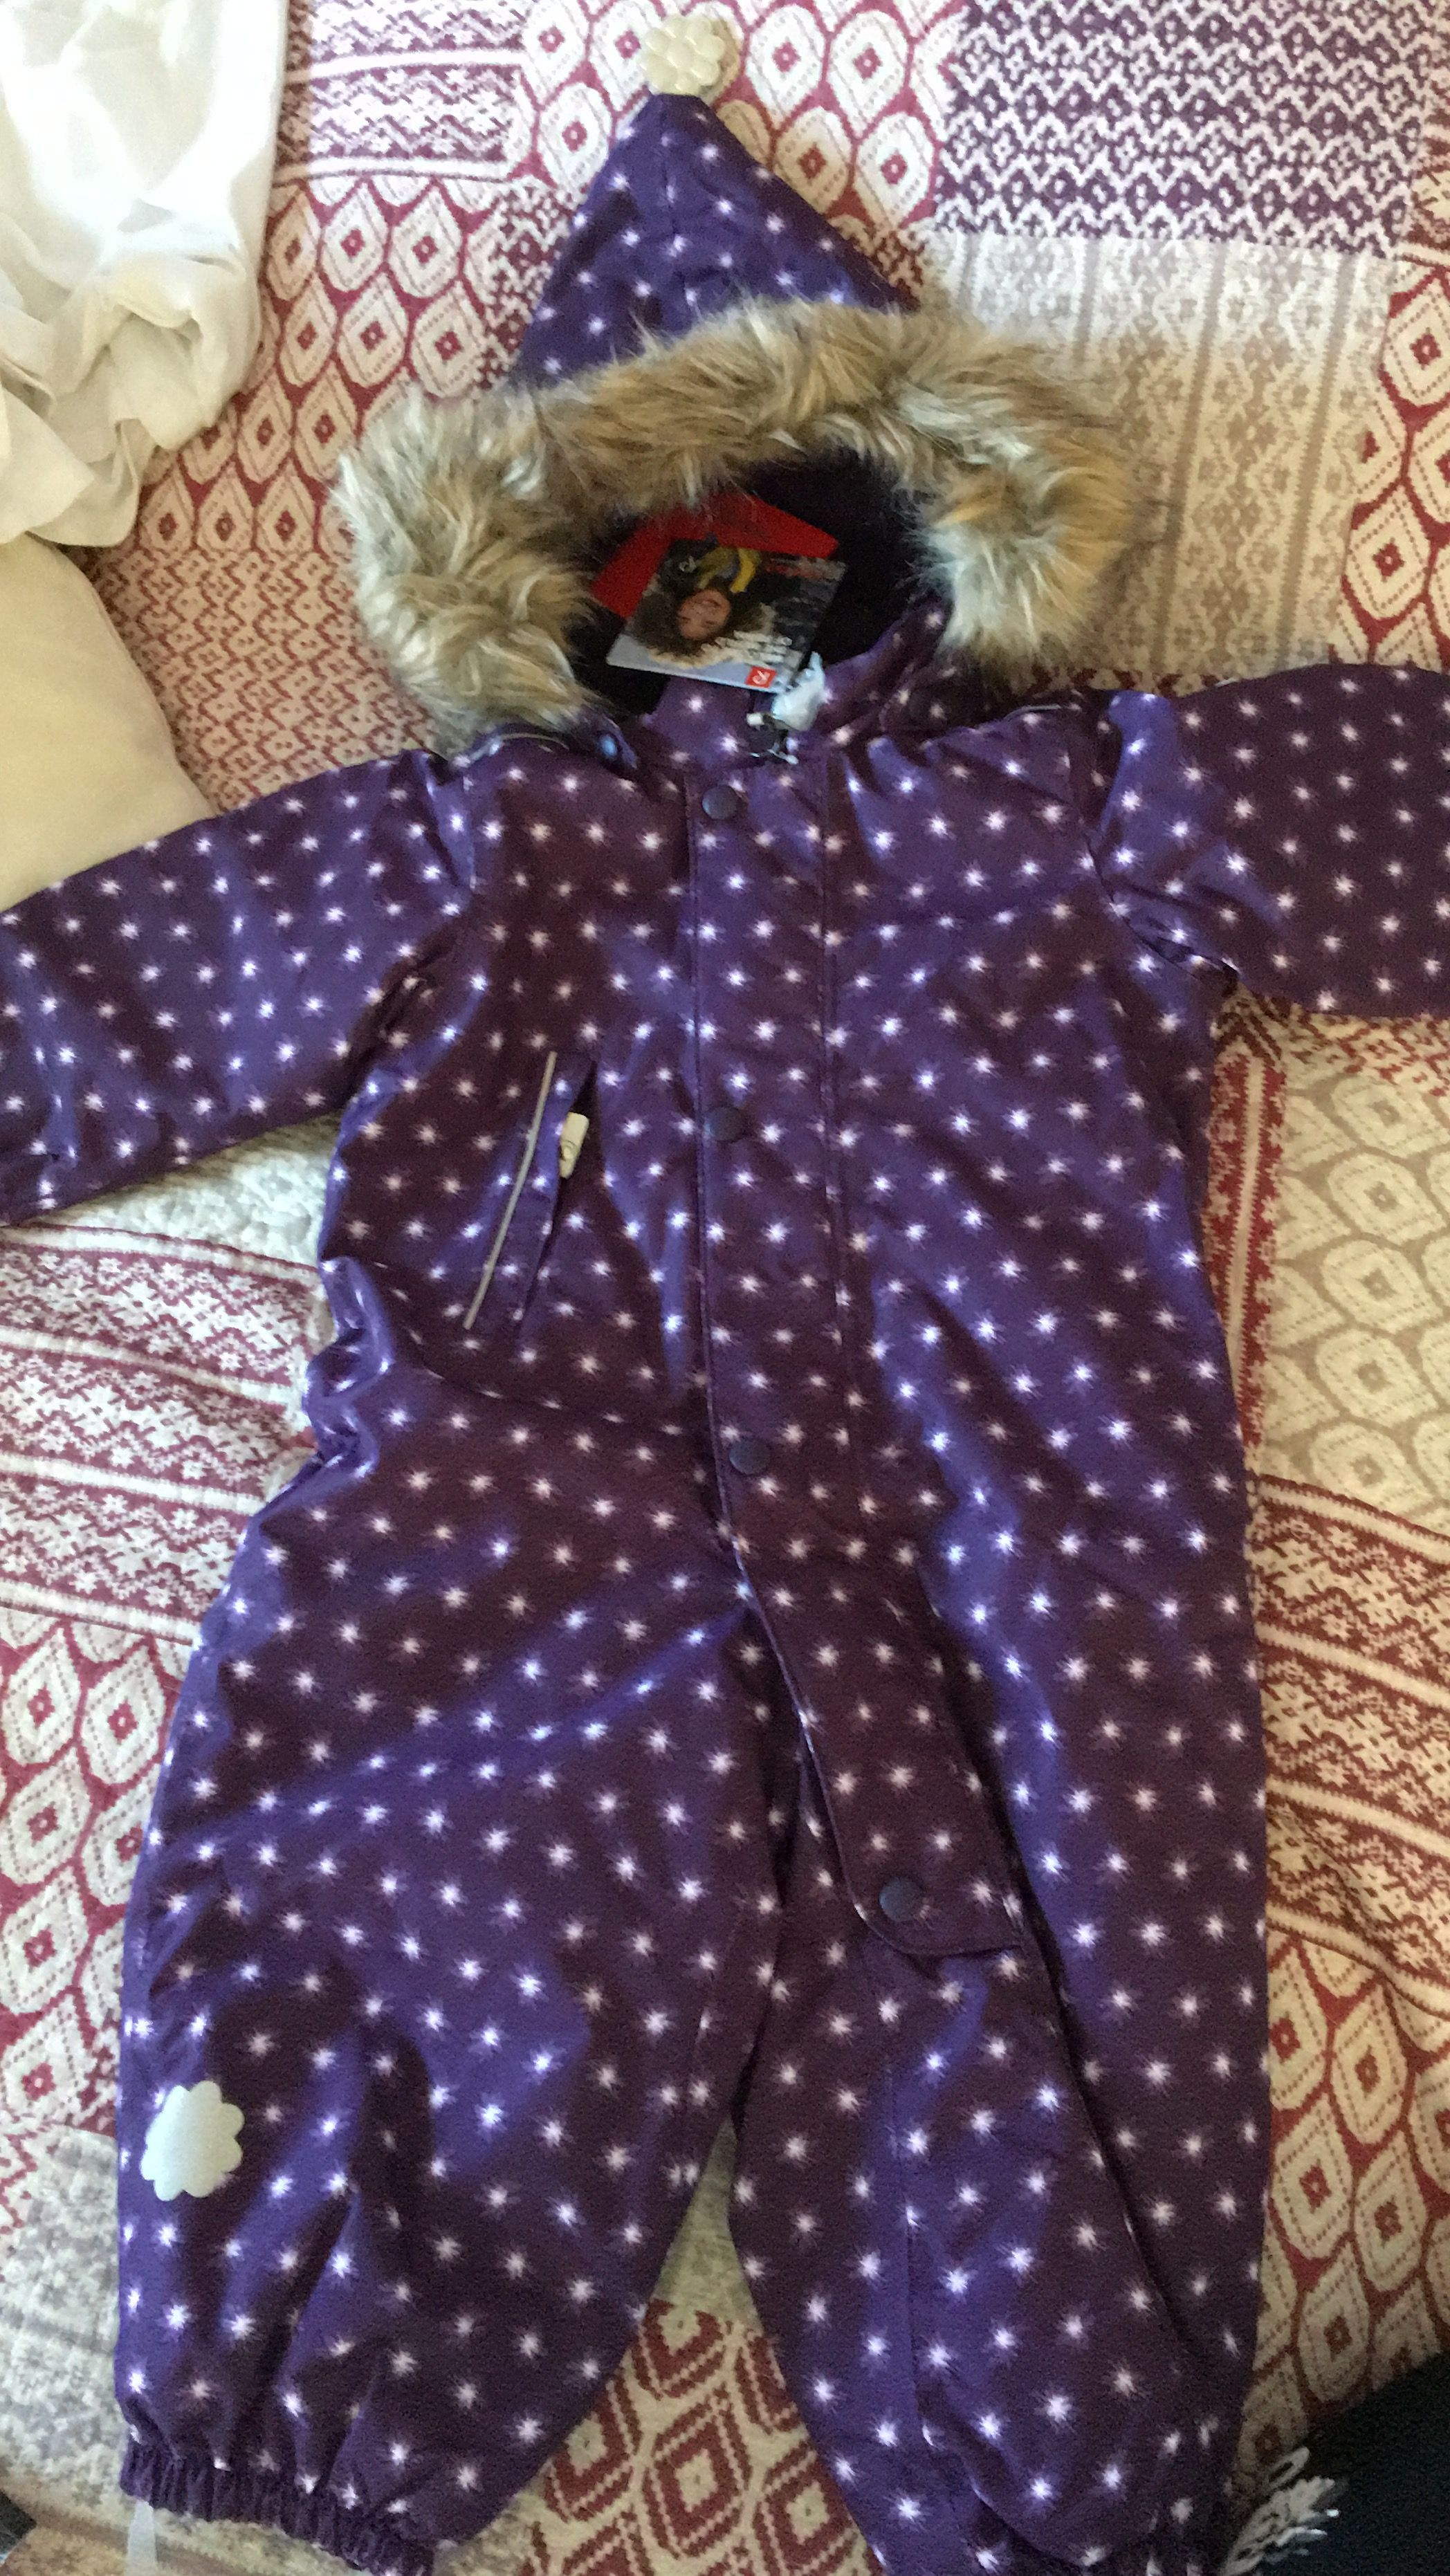clothes: (16, 81, 1448, 2486)
